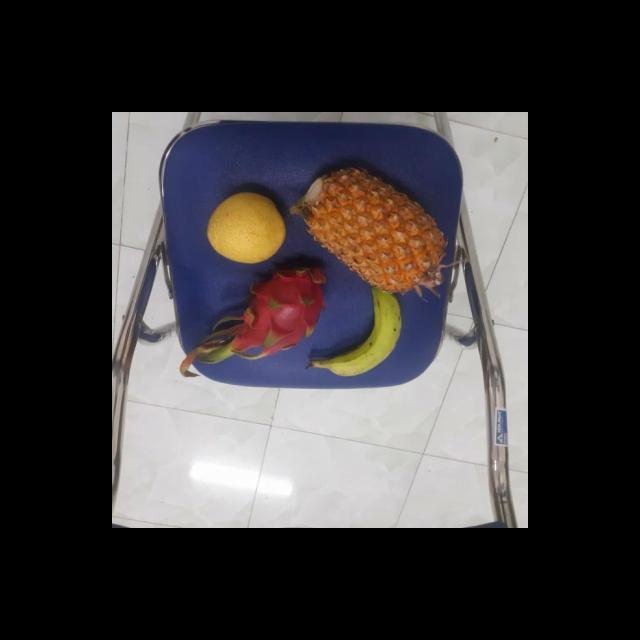banana: (317, 286, 407, 381)
pear: (205, 188, 292, 262)
pineapple: (301, 165, 448, 294)
pitaya: (232, 258, 330, 356)
